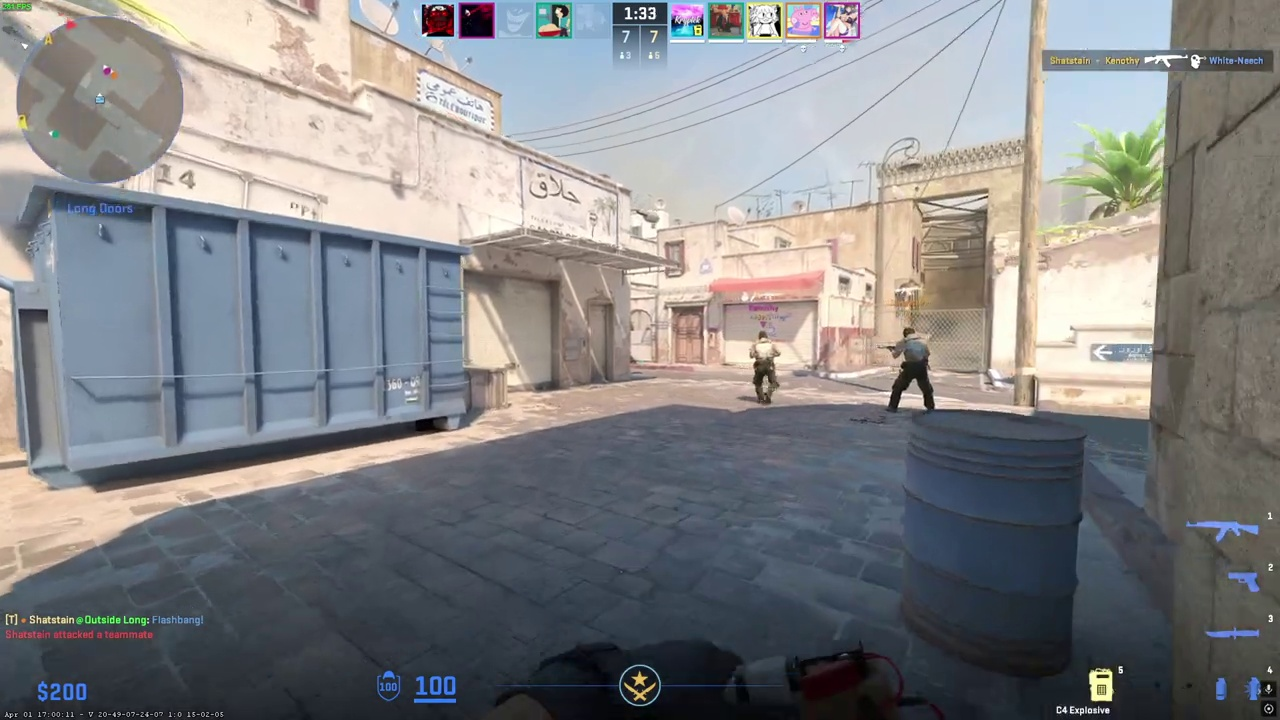Terrorist: (888, 327, 935, 413), (750, 331, 778, 405)
